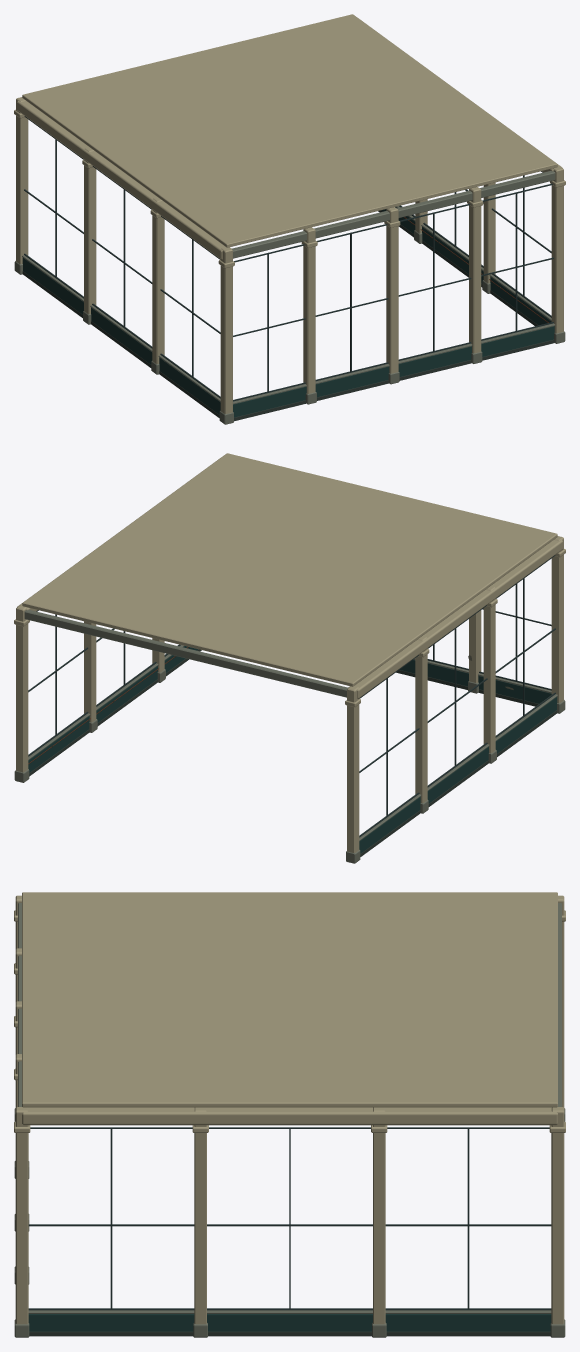
Rendered from hall_structure.obj.
3 renders of one model, top to bottom at view 1: azimuth 30°, elevation 25°; view 2: azimuth 150°, elevation 25°; view 3: azimuth 270°, elevation 25°, orthographic. The views are drawn at different scales.
Parts seen in each view (by area): view 1: ceiling, side_piers, rear_piers, side_dado, rear_dado, side_header, ceiling_beams, rear_rails, side_window_rails, side_window_mullions, side_sill, rear_skirting (+4 smaller); view 2: ceiling, side_piers, side_dado, ceiling_beams, side_header, side_window_rails, rear_dado, side_skirting, side_sill, side_window_mullions, rear_piers, pier_feet; view 3: ceiling, side_piers, side_header, side_dado, side_window_rails, side_skirting, side_sill, ceiling_beams, side_window_mullions, pier_feet.
Boxes of the visible parts, box(x1,y1,x2,y2) form: ceiling: box(22, 14, 557, 247); side_piers: box(16, 97, 563, 413); rear_piers: box(303, 187, 481, 393); side_dado: box(22, 207, 551, 414); rear_dado: box(233, 326, 554, 417); side_header: box(17, 20, 562, 259); ceiling_beams: box(232, 171, 555, 258); rear_rails: box(233, 183, 553, 401); side_window_rails: box(24, 116, 551, 398); side_window_mullions: box(55, 139, 524, 376); side_sill: box(22, 206, 551, 401); rear_skirting: box(234, 339, 554, 421); ceiling: box(22, 453, 557, 686); side_piers: box(16, 536, 563, 852); side_dado: box(28, 646, 557, 853); ceiling_beams: box(24, 610, 347, 697); side_header: box(17, 475, 562, 698); side_window_rails: box(28, 555, 555, 837); rear_dado: box(400, 660, 551, 703); side_skirting: box(29, 649, 556, 856); side_sill: box(28, 645, 557, 840); side_window_mullions: box(55, 578, 524, 815); rear_piers: box(469, 610, 481, 682); pier_feet: box(14, 669, 565, 863); ceiling: box(22, 892, 557, 1107); side_piers: box(15, 895, 564, 1324); side_header: box(22, 1107, 557, 1125); side_dado: box(28, 1314, 551, 1331); side_window_rails: box(28, 1127, 551, 1310); side_skirting: box(29, 1331, 550, 1336); side_sill: box(28, 1310, 551, 1313); ceiling_beams: box(18, 903, 561, 1106); side_window_mullions: box(110, 1129, 469, 1308); pier_feet: box(14, 1108, 565, 1337).
Bounding box in the file's own units: 28.95 × 14.35 × 30.91.
